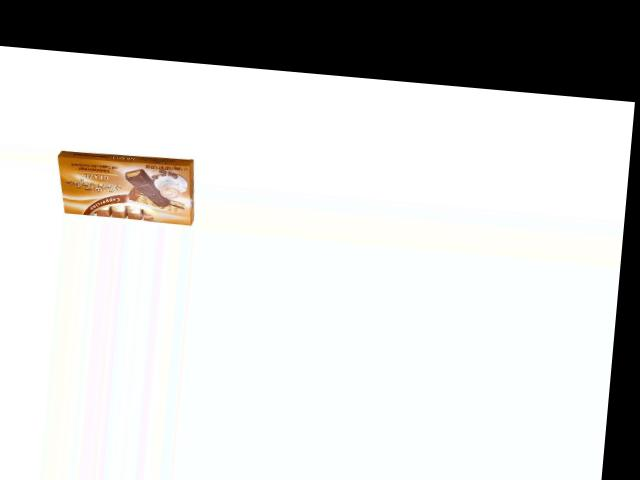chocolate: (49, 147, 199, 226)
